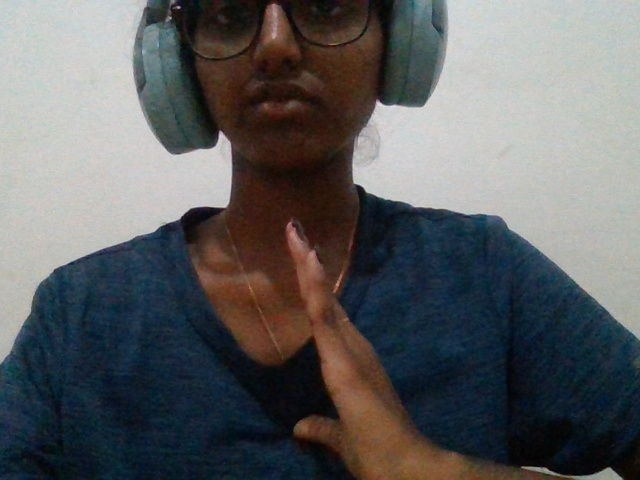Fine: (236, 204, 505, 480)
